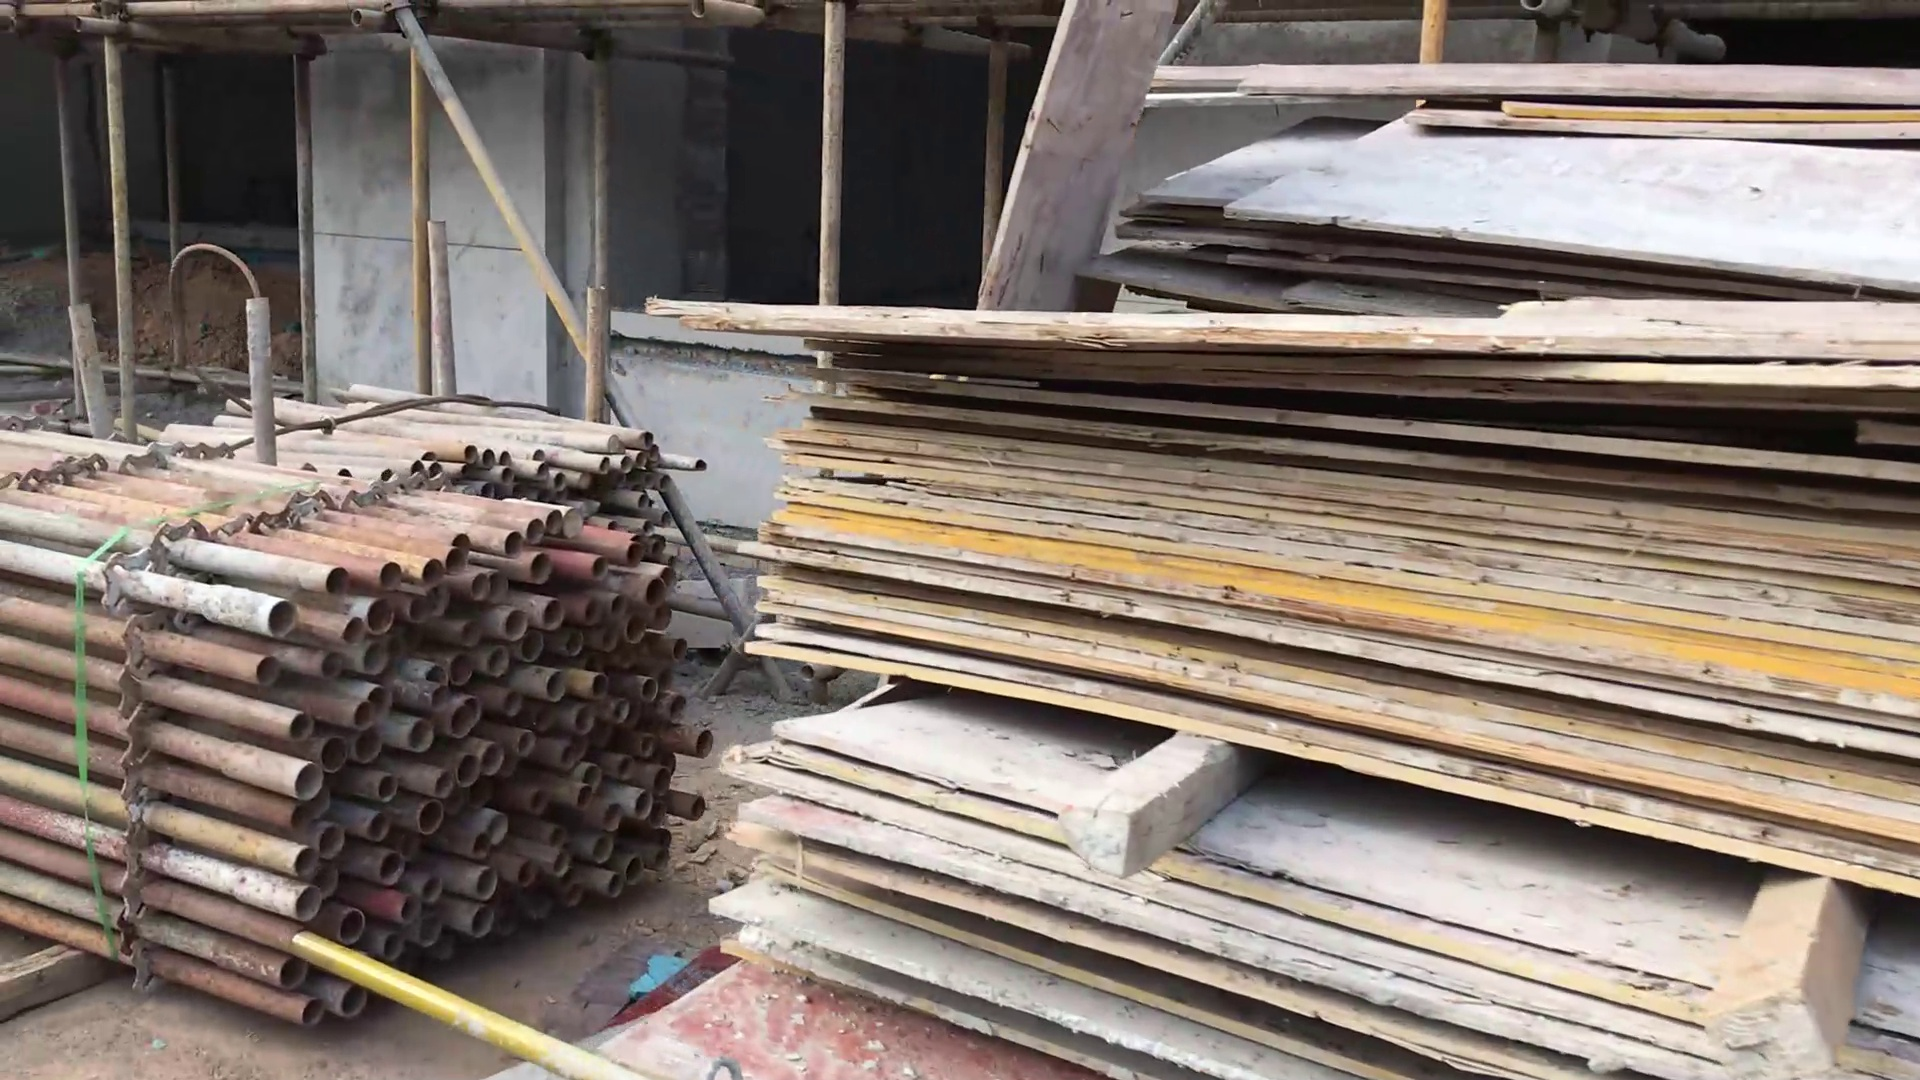board: (644, 36, 1920, 1067)
scaffold: (1, 386, 694, 1038)
